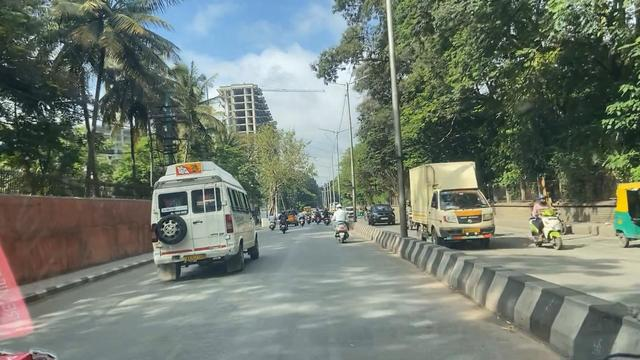HMV: (151, 159, 258, 272)
